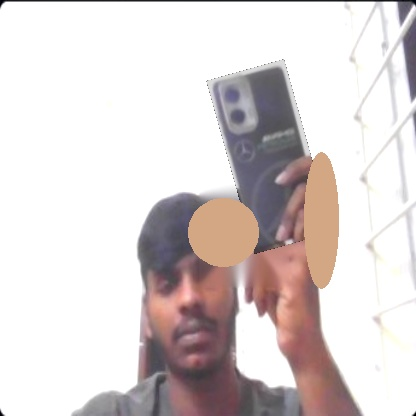cell_phone: (206, 59, 332, 254)
